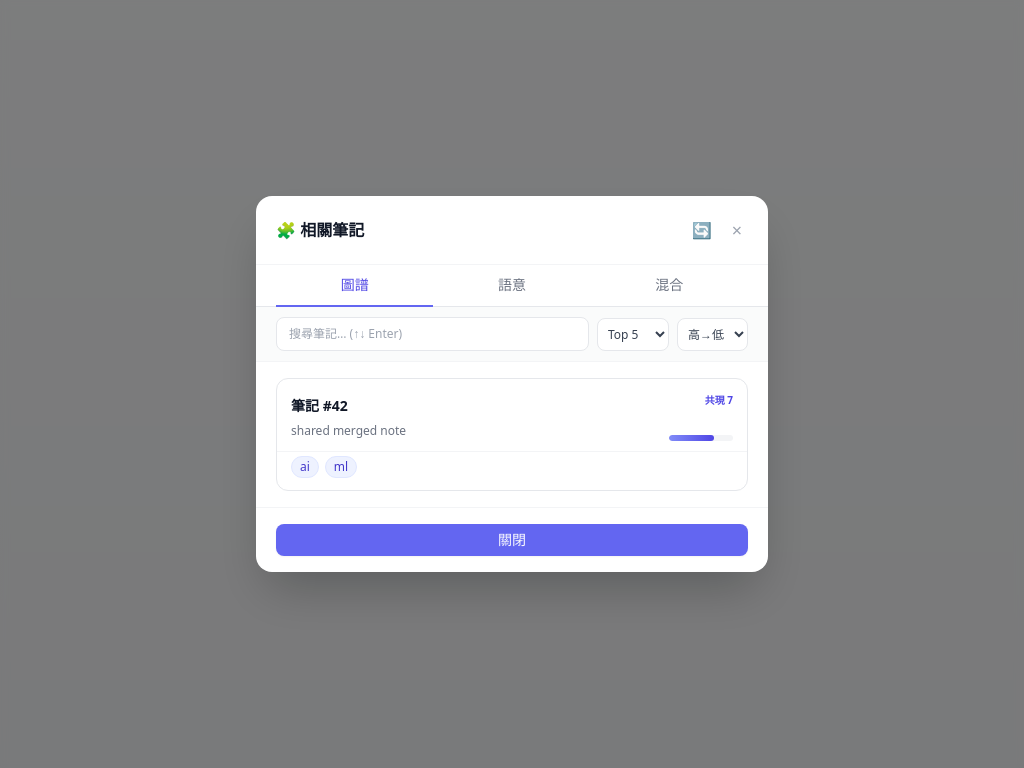
Test case: RelatedNotesPanel › H3 — same noteId in graph+semantic merges into one card with both badges
Expected: the list item with test id "card-note-42" is shown, [276, 378, 748, 491]
Click the button "混合" at [669, 286], box [591, 265, 748, 307]
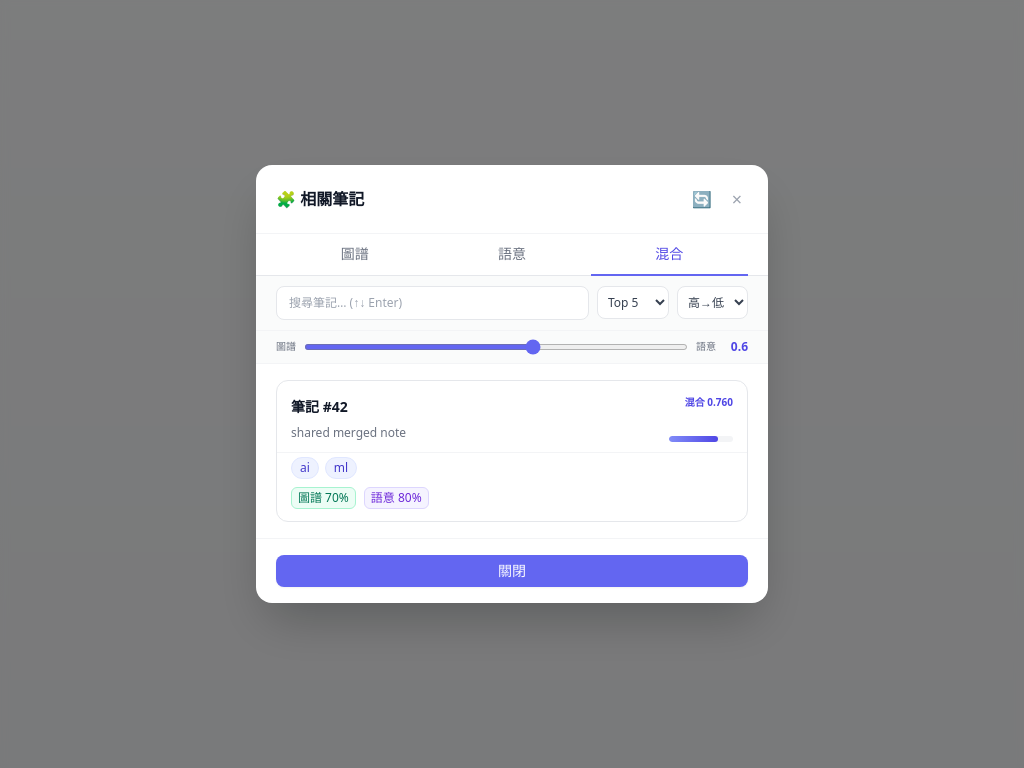
Expected: the number of list items with test id "card-note-42" is 1, [276, 380, 748, 522]
Expected: the text "圖譜 70%" is shown, [291, 487, 356, 509]
Expected: the text "語意 80%" is shown, [364, 487, 429, 509]
